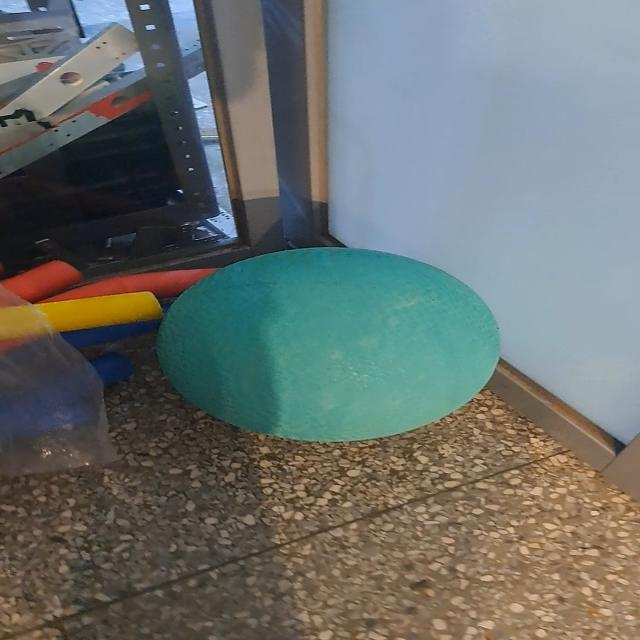ALGAE: (149, 242, 513, 450)
